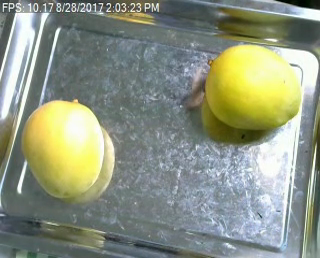Mango: (21, 97, 107, 199), (197, 44, 300, 128)
